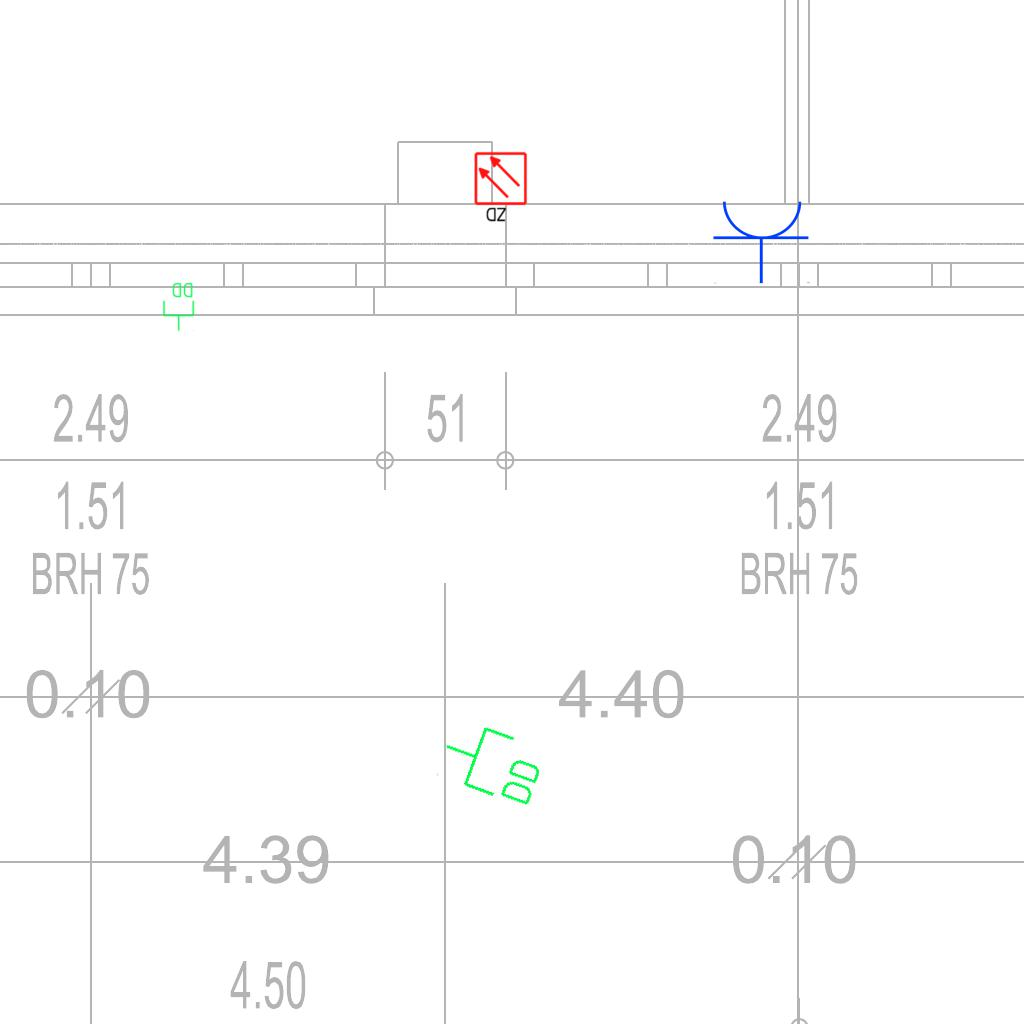Datenanschluss_zweifach: (432, 713, 553, 814), (162, 281, 196, 332)
Schukosteckdose_einfach: (712, 197, 812, 284)
ZD_Melder_in_Zwischendecke_mit_Revisionsoeffnung_mind_40_x_40_cm: (473, 151, 530, 225)
